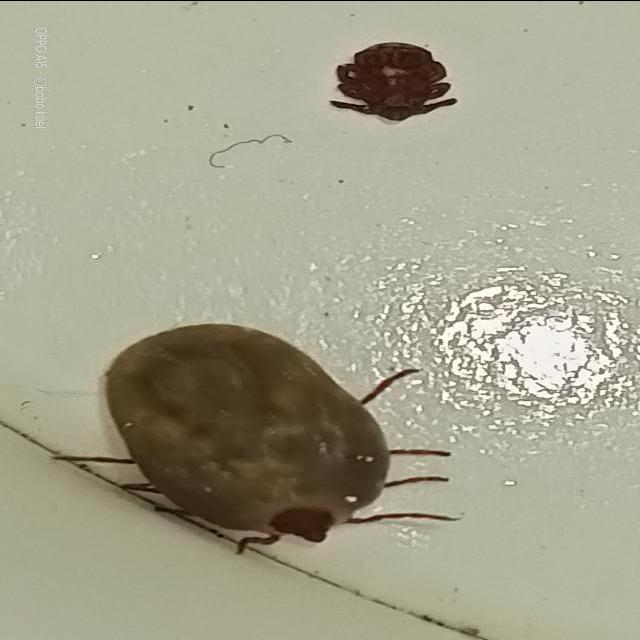Rhipicephalus Sanguineus-F-Fed: (49, 323, 464, 555)
